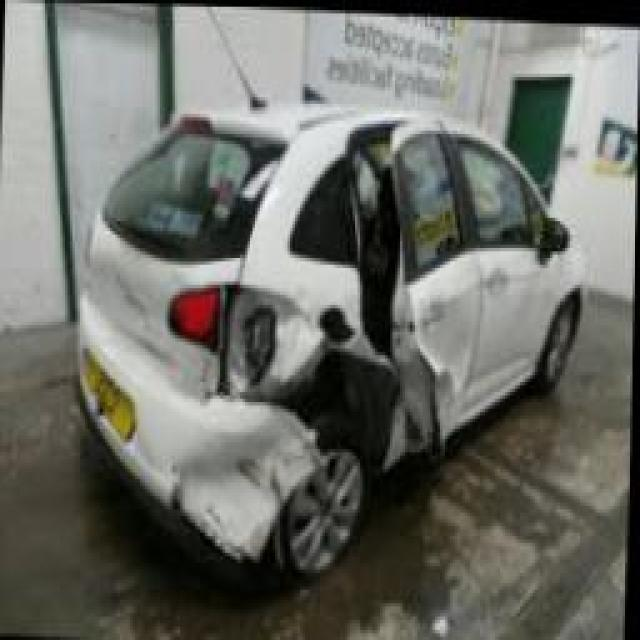Bumper: (99, 363, 363, 570)
Dickey: (78, 215, 247, 398)
Door: (342, 116, 480, 476)
Fender: (215, 247, 397, 409)
